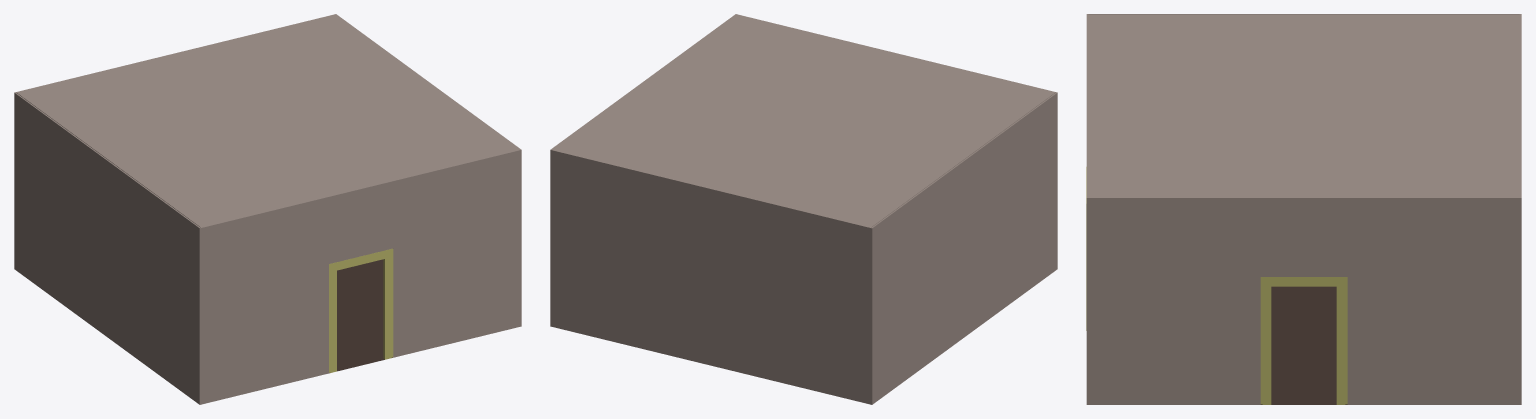
Rendered from Room34_OperatingLaboratory.fbx.
The picture shows the model from 3 angles, left to right: view 1: azimuth 30°, elevation 25°; view 2: azimuth 150°, elevation 25°; view 3: azimuth 270°, elevation 25°; orthographic projection. The views are drawn at different scales.
Parts seen in each view (by area): view 1: Roof, WallSlicedPosZ, WallPosX, Floor, DoorFramePosZ, WallSlicedNegX; view 2: Roof, WallNegZ, WallPosX, WallSlicedNegX; view 3: WallSlicedNegX, Roof, Floor, DoorFrameNegX, WallSlicedPosZ, WallNegZ, WallPosX.
Part boxes in pixels (x1,y1,x2,y2): Roof: (17, 15, 519, 227); WallSlicedPosZ: (200, 149, 521, 404); WallPosX: (14, 92, 201, 404); Floor: (329, 259, 392, 373); DoorFramePosZ: (329, 248, 393, 372); WallSlicedNegX: (335, 14, 521, 326); Roof: (552, 15, 1054, 227); WallNegZ: (550, 149, 871, 404); WallPosX: (870, 92, 1057, 404); WallSlicedNegX: (550, 14, 735, 326); WallSlicedNegX: (1086, 197, 1521, 404); Roof: (1088, 15, 1519, 197); Floor: (1260, 286, 1347, 404); DoorFrameNegX: (1260, 277, 1347, 404); WallSlicedPosZ: (1086, 14, 1089, 404); WallNegZ: (1518, 14, 1521, 404); WallPosX: (1087, 14, 1521, 14).
Bounding box in the file's own units: 801 × 420 × 800.
